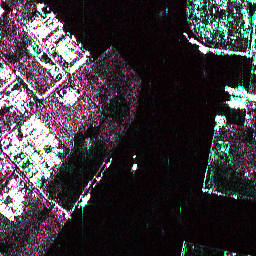ship: (78, 192, 92, 208), (197, 45, 208, 55)
